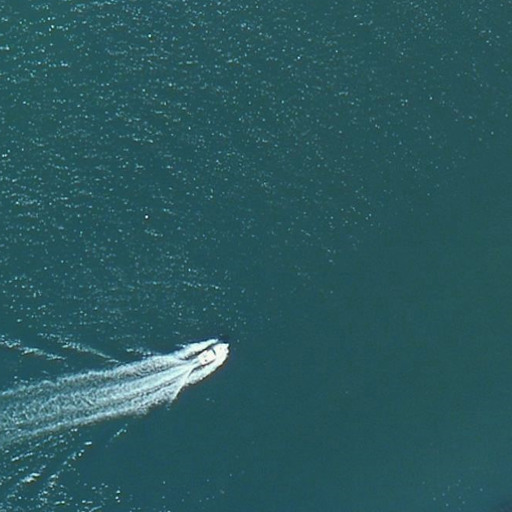ship: (192, 341, 231, 367)
